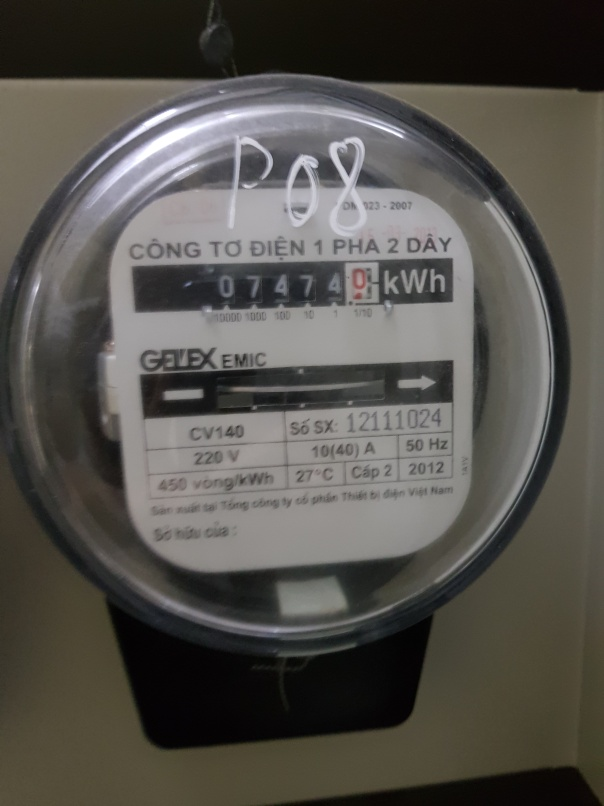counter: (132, 259, 456, 313)
electricity_meter: (8, 67, 571, 635)
